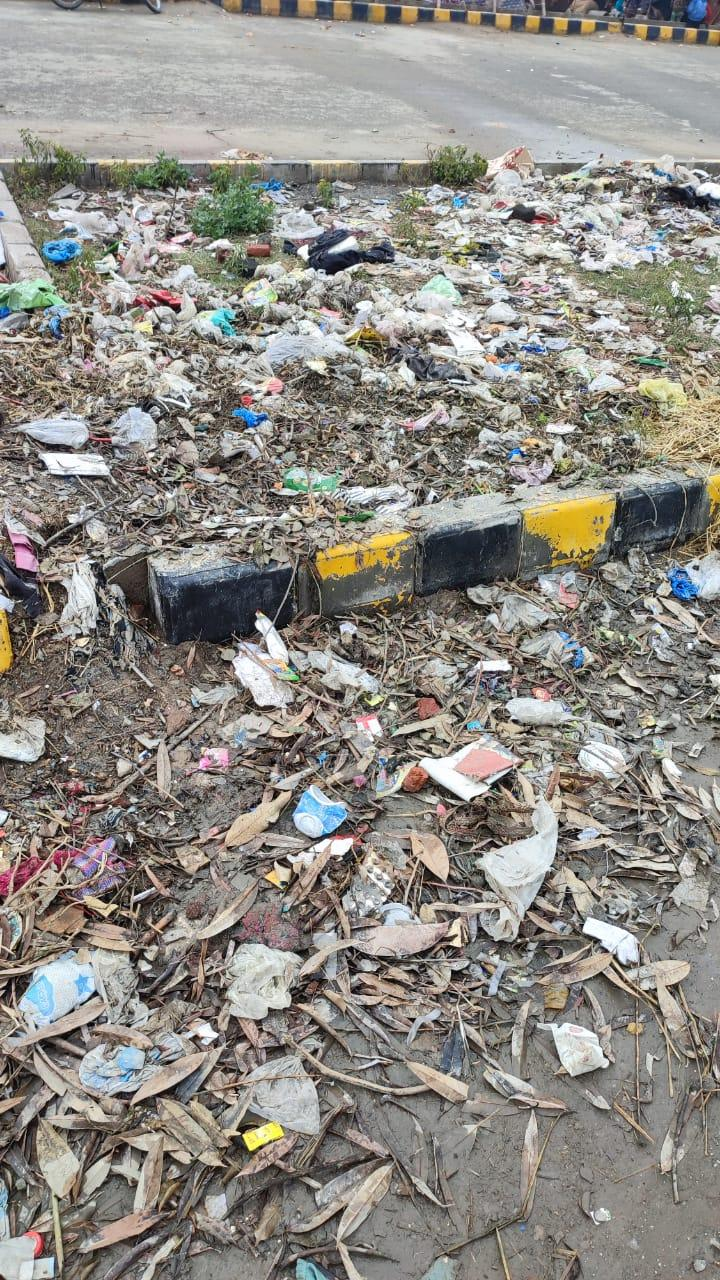garbage: (1, 163, 720, 1277)
